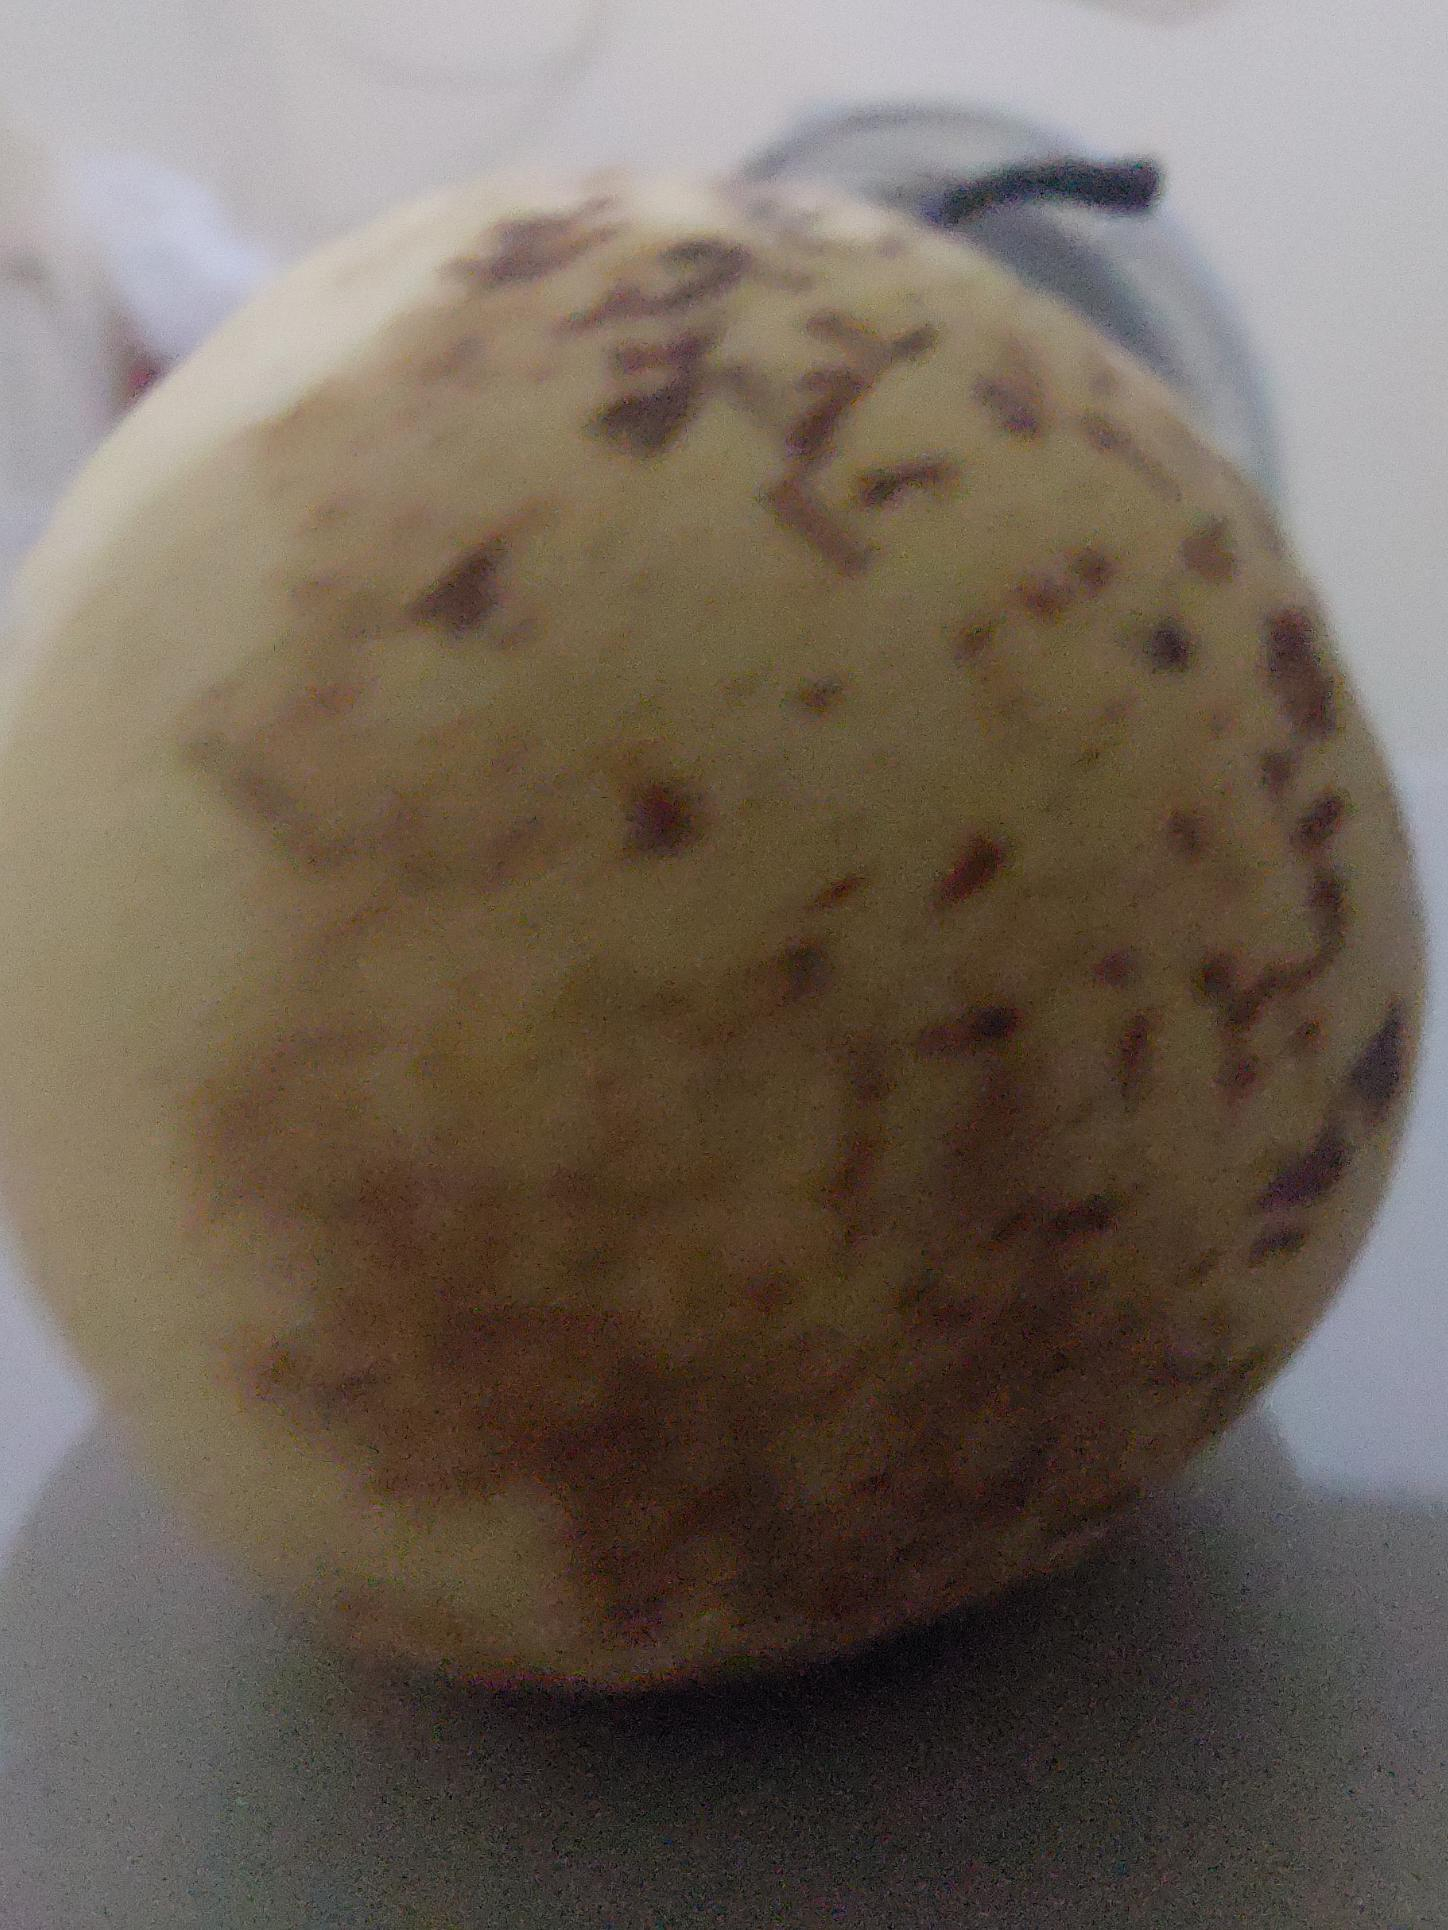Bad Pear: (0, 138, 1448, 1699)
